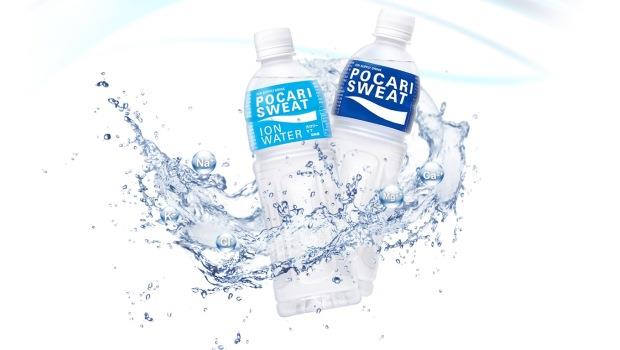POCARI SWEAT: (337, 9, 415, 304)
